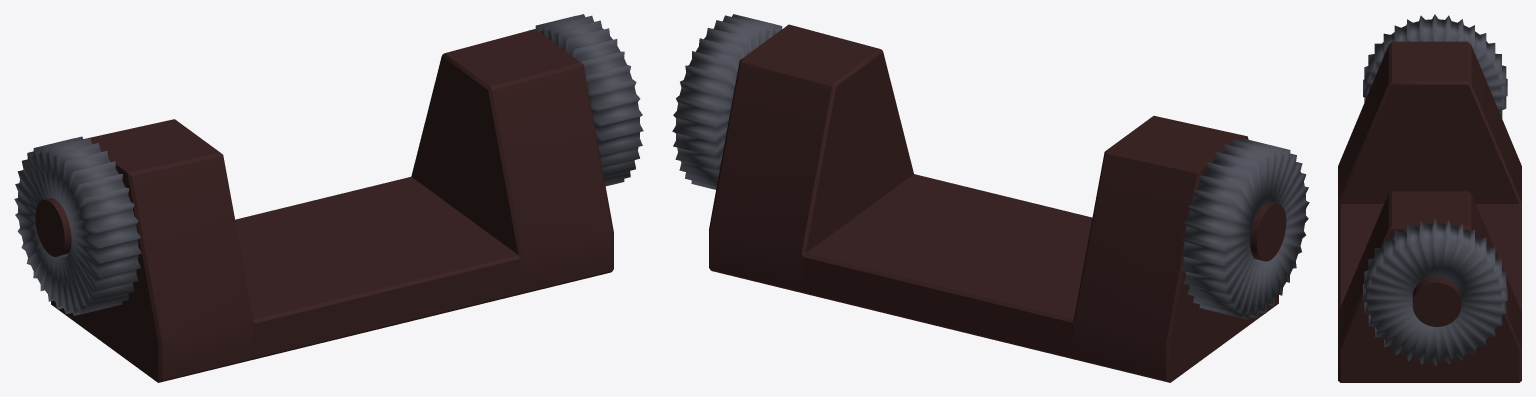
The model's file is WEAP_hammer_02.FBX.
3 views of the same model, side by side, from view 1: azimuth 30°, elevation 25°; view 2: azimuth 150°, elevation 25°; view 3: azimuth 270°, elevation 25° (orthographic). The views are drawn at different scales.
Parts seen in each view (by area): view 1: Box001, Star002, Star003, Cylinder001; view 2: Box001, Star002, Star003, Cylinder001; view 3: Box001, Star003, Star002, Cylinder002.
Boxes of the visible parts, x1,y1,x2,y2 form: Box001: [51, 29, 613, 382]; Star002: [14, 136, 141, 315]; Star003: [535, 14, 643, 186]; Cylinder001: [35, 198, 71, 256]; Box001: [709, 24, 1278, 382]; Star002: [1180, 138, 1309, 319]; Star003: [672, 14, 782, 189]; Cylinder001: [1250, 202, 1286, 261]; Box001: [1338, 41, 1521, 382]; Star003: [1363, 218, 1507, 365]; Star002: [1363, 14, 1507, 118]; Cylinder002: [1412, 277, 1461, 326].
Size of the model in its own units: 438 by 150 by 150.
